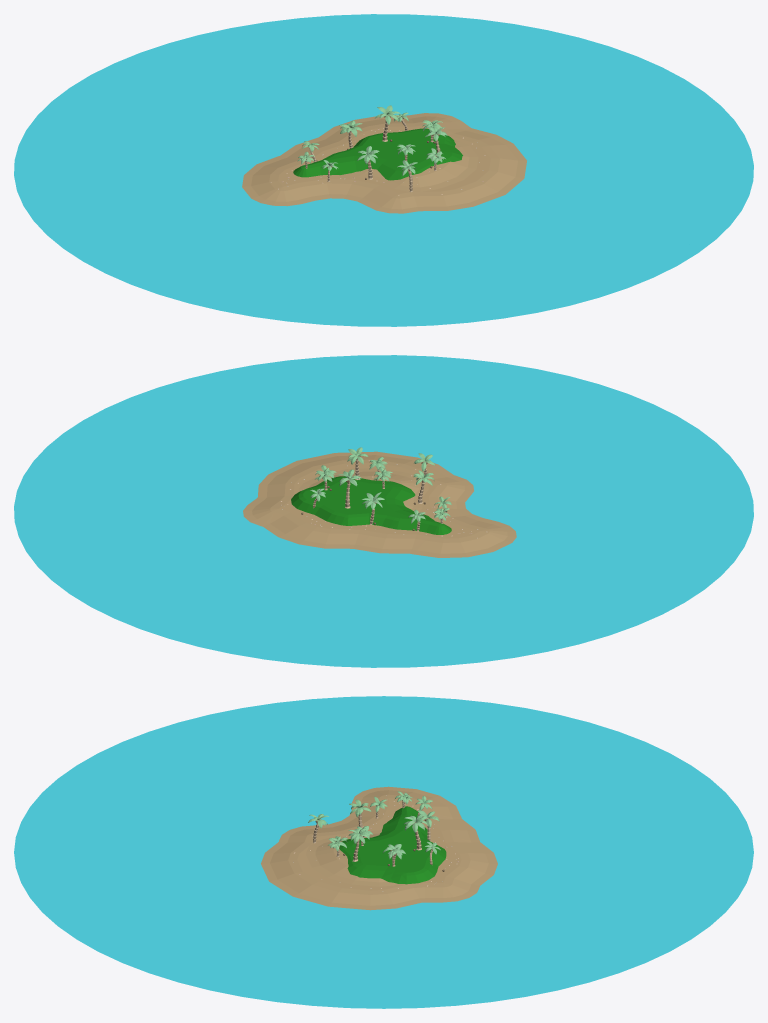
File: Island.glb
3 renders of one model, top to bottom at view 1: azimuth 30°, elevation 25°; view 2: azimuth 150°, elevation 25°; view 3: azimuth 270°, elevation 25°, orthographic.
Visible parts, largest first — view 1: Water_Circle_3_Highpoly__Water Ocean__0__0__1, Terrain_Sand_Incline_Curve_Outer_12x12__Dirt__0__0__1, Terrain_Sand_Incline_Curve_Inner_8x8__Dirt__0__0__1, Terrain_Sand_Incline_Curve_Outer_8x8__Dirt__0__0__2, Terrain_Sand_Incline_Esse_6x6__Dirt__0__1__1, Terrain_Sand_Incline_Curve_Outer_8x8__Dirt__0__0__1, Terrain_Sand_Incline_Esse_6x6__Dirt__0__0__4, Terrain_Sand_Incline_Esse_6x6__Dirt__0__0__3, Terrain_Sand_Incline_Esse_6x6__Dirt__0__0__1, Grass_Hill_Gentle_Curve_Inner_4x4__Grass__0__0__1, Terrain_Sand_Incline_Esse_6x6__Dirt__0__1__3, Grass_Flat_1x1__Grass__2__0__1 (+3 smaller); view 2: Water_Circle_3_Highpoly__Water Ocean__0__0__1, Terrain_Sand_Incline_Curve_Outer_8x8__Dirt__0__0__2, Terrain_Sand_Incline_Curve_Outer_12x12__Dirt__0__0__1, Terrain_Sand_Incline_Curve_Inner_8x8__Dirt__0__0__1, Terrain_Sand_Incline_Esse_6x6__Dirt__0__0__3, Terrain_Sand_Incline_Esse_6x6__Dirt__0__0__1, Terrain_Sand_Incline_Esse_6x6__Dirt__0__1__3, Terrain_Sand_Incline_Esse_6x6__Dirt__0__0__4, Terrain_Sand_Incline_Esse_6x6__Dirt__0__1__1, Grass_Flat_1x1__Grass__2__0__1, Terrain_Sand_Incline_Curve_Outer_8x8__Dirt__0__0__1, Grass_Hill_Sharp_Esse_4x4__Grass__0__0__1 (+1 smaller); view 3: Water_Circle_3_Highpoly__Water Ocean__0__0__1, Terrain_Sand_Incline_Curve_Outer_12x12__Dirt__0__0__1, Terrain_Sand_Incline_Esse_6x6__Dirt__0__0__4, Terrain_Sand_Incline_Curve_Outer_8x8__Dirt__0__0__2, Terrain_Sand_Incline_Esse_6x6__Dirt__0__1__3, Terrain_Sand_Incline_Curve_Outer_8x8__Dirt__0__0__1, Terrain_Sand_Incline_Curve_Inner_8x8__Dirt__0__0__1, Terrain_Sand_Incline_Esse_6x6__Dirt__0__0__1, Terrain_Sand_Incline_Esse_6x6__Dirt__0__0__3, Terrain_Sand_Incline_Esse_6x6__Dirt__0__1__1, Grass_Flat_1x1__Grass__2__0__1, Grass_Flat_1x1__Grass__2__0__5 (+2 smaller).
Part boxes in pixels (left/top/right/bottom): Water_Circle_3_Highpoly__Water Ocean__0__0__1: left=14, top=14, right=753, bottom=326; Terrain_Sand_Incline_Curve_Outer_12x12__Dirt__0__0__1: left=450, top=143, right=526, bottom=206; Terrain_Sand_Incline_Curve_Inner_8x8__Dirt__0__0__1: left=299, top=173, right=397, bottom=205; Terrain_Sand_Incline_Curve_Outer_8x8__Dirt__0__0__2: left=242, top=156, right=313, bottom=198; Terrain_Sand_Incline_Esse_6x6__Dirt__0__1__1: left=399, top=185, right=472, bottom=211; Terrain_Sand_Incline_Curve_Outer_8x8__Dirt__0__0__1: left=425, top=146, right=478, bottom=187; Terrain_Sand_Incline_Esse_6x6__Dirt__0__0__4: left=441, top=127, right=512, bottom=149; Terrain_Sand_Incline_Esse_6x6__Dirt__0__0__3: left=278, top=138, right=340, bottom=165; Terrain_Sand_Incline_Esse_6x6__Dirt__0__0__1: left=316, top=120, right=378, bottom=147; Grass_Hill_Gentle_Curve_Inner_4x4__Grass__0__0__1: left=337, top=153, right=398, bottom=174; Terrain_Sand_Incline_Esse_6x6__Dirt__0__1__3: left=355, top=115, right=427, bottom=133; Grass_Flat_1x1__Grass__2__0__1: left=381, top=142, right=432, bottom=165; Water_Circle_3_Highpoly__Water Ocean__0__0__1: left=14, top=355, right=753, bottom=667; Terrain_Sand_Incline_Curve_Outer_8x8__Dirt__0__0__2: left=413, top=523, right=511, bottom=557; Terrain_Sand_Incline_Curve_Outer_12x12__Dirt__0__0__1: left=268, top=451, right=417, bottom=480; Terrain_Sand_Incline_Curve_Inner_8x8__Dirt__0__0__1: left=418, top=485, right=482, bottom=526; Terrain_Sand_Incline_Esse_6x6__Dirt__0__0__3: left=356, top=526, right=430, bottom=554; Terrain_Sand_Incline_Esse_6x6__Dirt__0__0__1: left=299, top=521, right=373, bottom=549; Terrain_Sand_Incline_Esse_6x6__Dirt__0__1__3: left=261, top=508, right=325, bottom=544; Terrain_Sand_Incline_Esse_6x6__Dirt__0__0__4: left=257, top=474, right=308, bottom=501; Terrain_Sand_Incline_Esse_6x6__Dirt__0__1__1: left=394, top=457, right=455, bottom=484; Grass_Flat_1x1__Grass__2__0__1: left=334, top=481, right=390, bottom=500; Terrain_Sand_Incline_Curve_Outer_8x8__Dirt__0__0__1: left=304, top=468, right=402, bottom=484; Grass_Hill_Sharp_Esse_4x4__Grass__0__0__1: left=341, top=510, right=387, bottom=525; Water_Circle_3_Highpoly__Water Ocean__0__0__1: left=14, top=696, right=753, bottom=1008; Terrain_Sand_Incline_Curve_Outer_12x12__Dirt__0__0__1: left=261, top=859, right=370, bottom=909; Terrain_Sand_Incline_Esse_6x6__Dirt__0__0__4: left=370, top=883, right=424, bottom=910; Terrain_Sand_Incline_Curve_Outer_8x8__Dirt__0__0__2: left=388, top=787, right=461, bottom=817; Terrain_Sand_Incline_Esse_6x6__Dirt__0__1__3: left=443, top=859, right=497, bottom=886; Terrain_Sand_Incline_Curve_Outer_8x8__Dirt__0__0__1: left=306, top=852, right=379, bottom=886; Terrain_Sand_Incline_Curve_Inner_8x8__Dirt__0__0__1: left=315, top=805, right=388, bottom=836; Terrain_Sand_Incline_Esse_6x6__Dirt__0__0__1: left=443, top=836, right=497, bottom=863; Terrain_Sand_Incline_Esse_6x6__Dirt__0__0__3: left=425, top=813, right=479, bottom=840; Terrain_Sand_Incline_Esse_6x6__Dirt__0__1__1: left=261, top=836, right=313, bottom=863; Grass_Flat_1x1__Grass__2__0__1: left=361, top=842, right=397, bottom=861; Grass_Flat_1x1__Grass__2__0__5: left=397, top=834, right=415, bottom=868.
Bounding box in the file's own units: 81.06 × 5.51 × 81.06.
